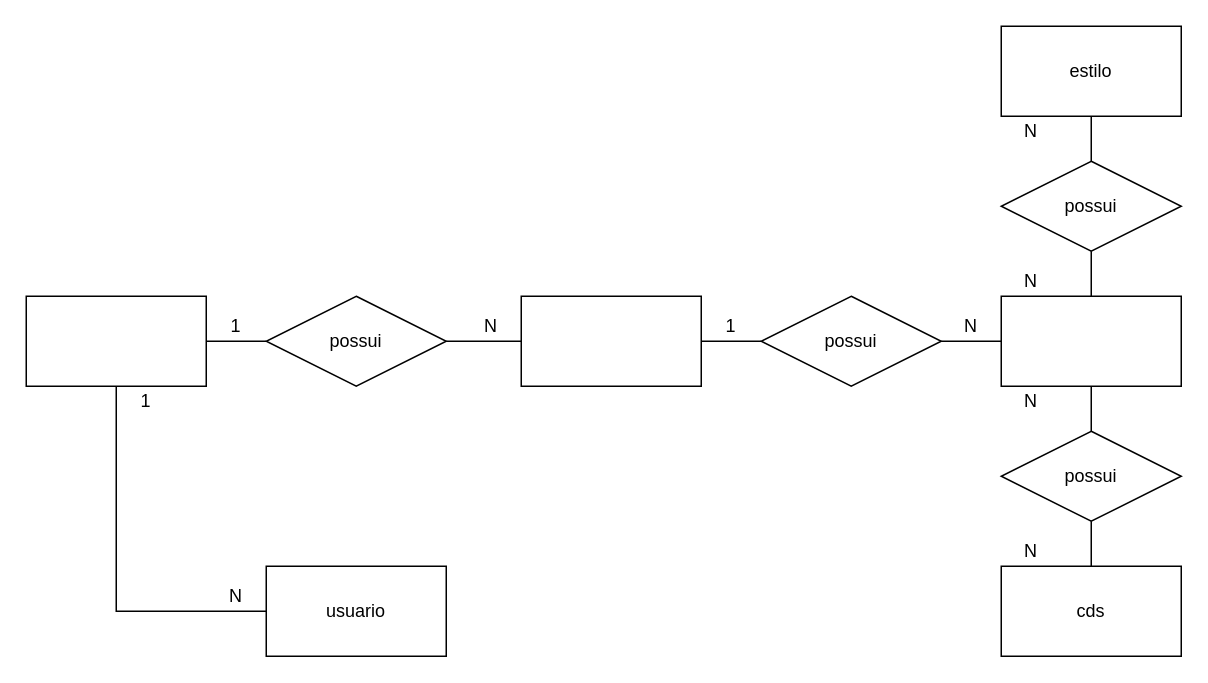
Image size: 1208x683. Some labels were removed from this diagram. The shapes that lost their labels are listed below. From the top down, each one's centre as x and y in pixels, then its label:
point 115,340: empresa
point 610,340: Artista
point 1090,340: albuns
